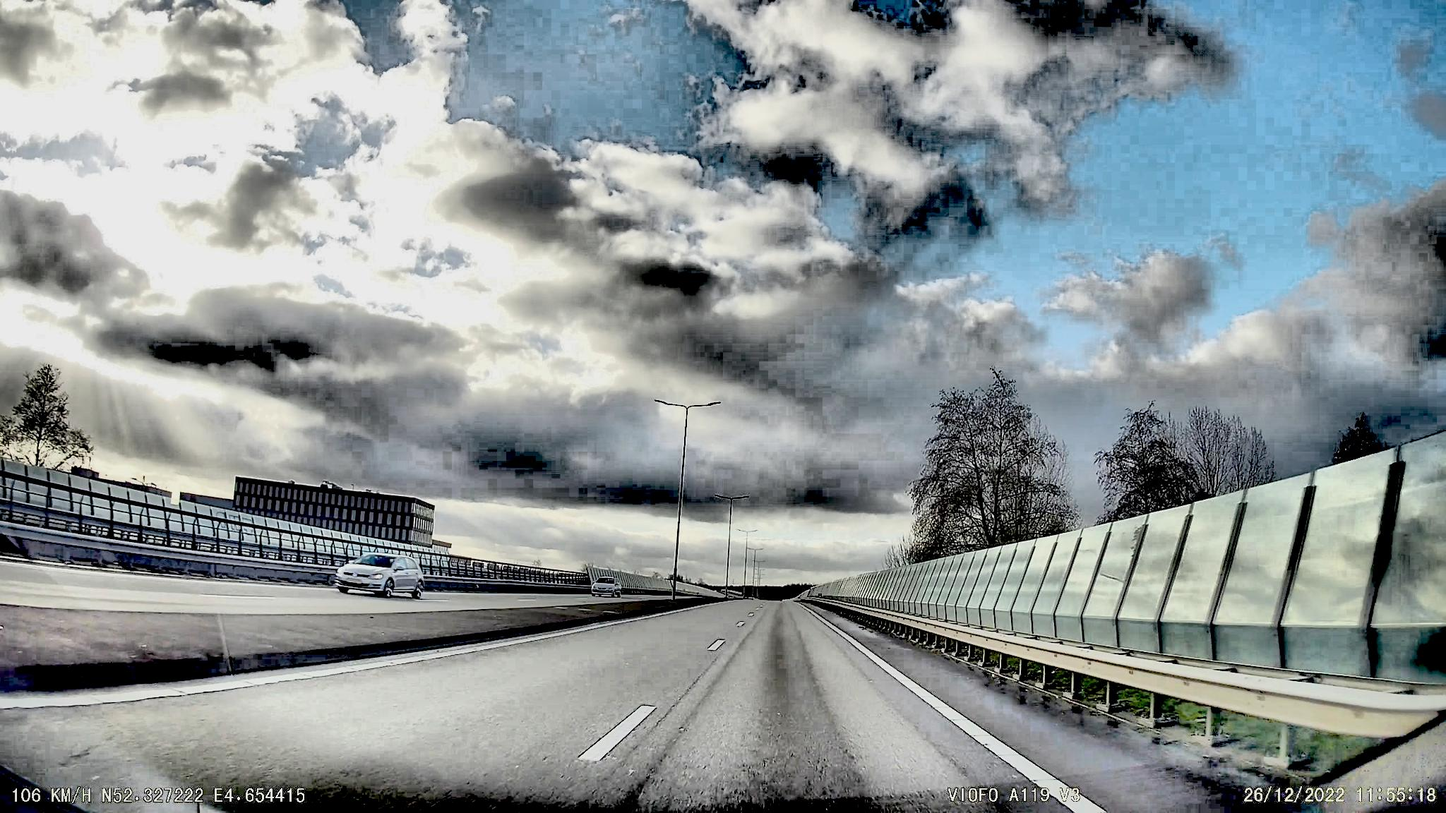Roads: (0, 599, 1213, 813)
